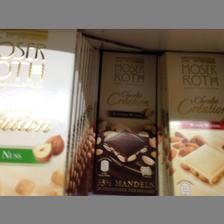Schokolade: (0, 29, 76, 194), (90, 51, 158, 195), (163, 50, 223, 193)
